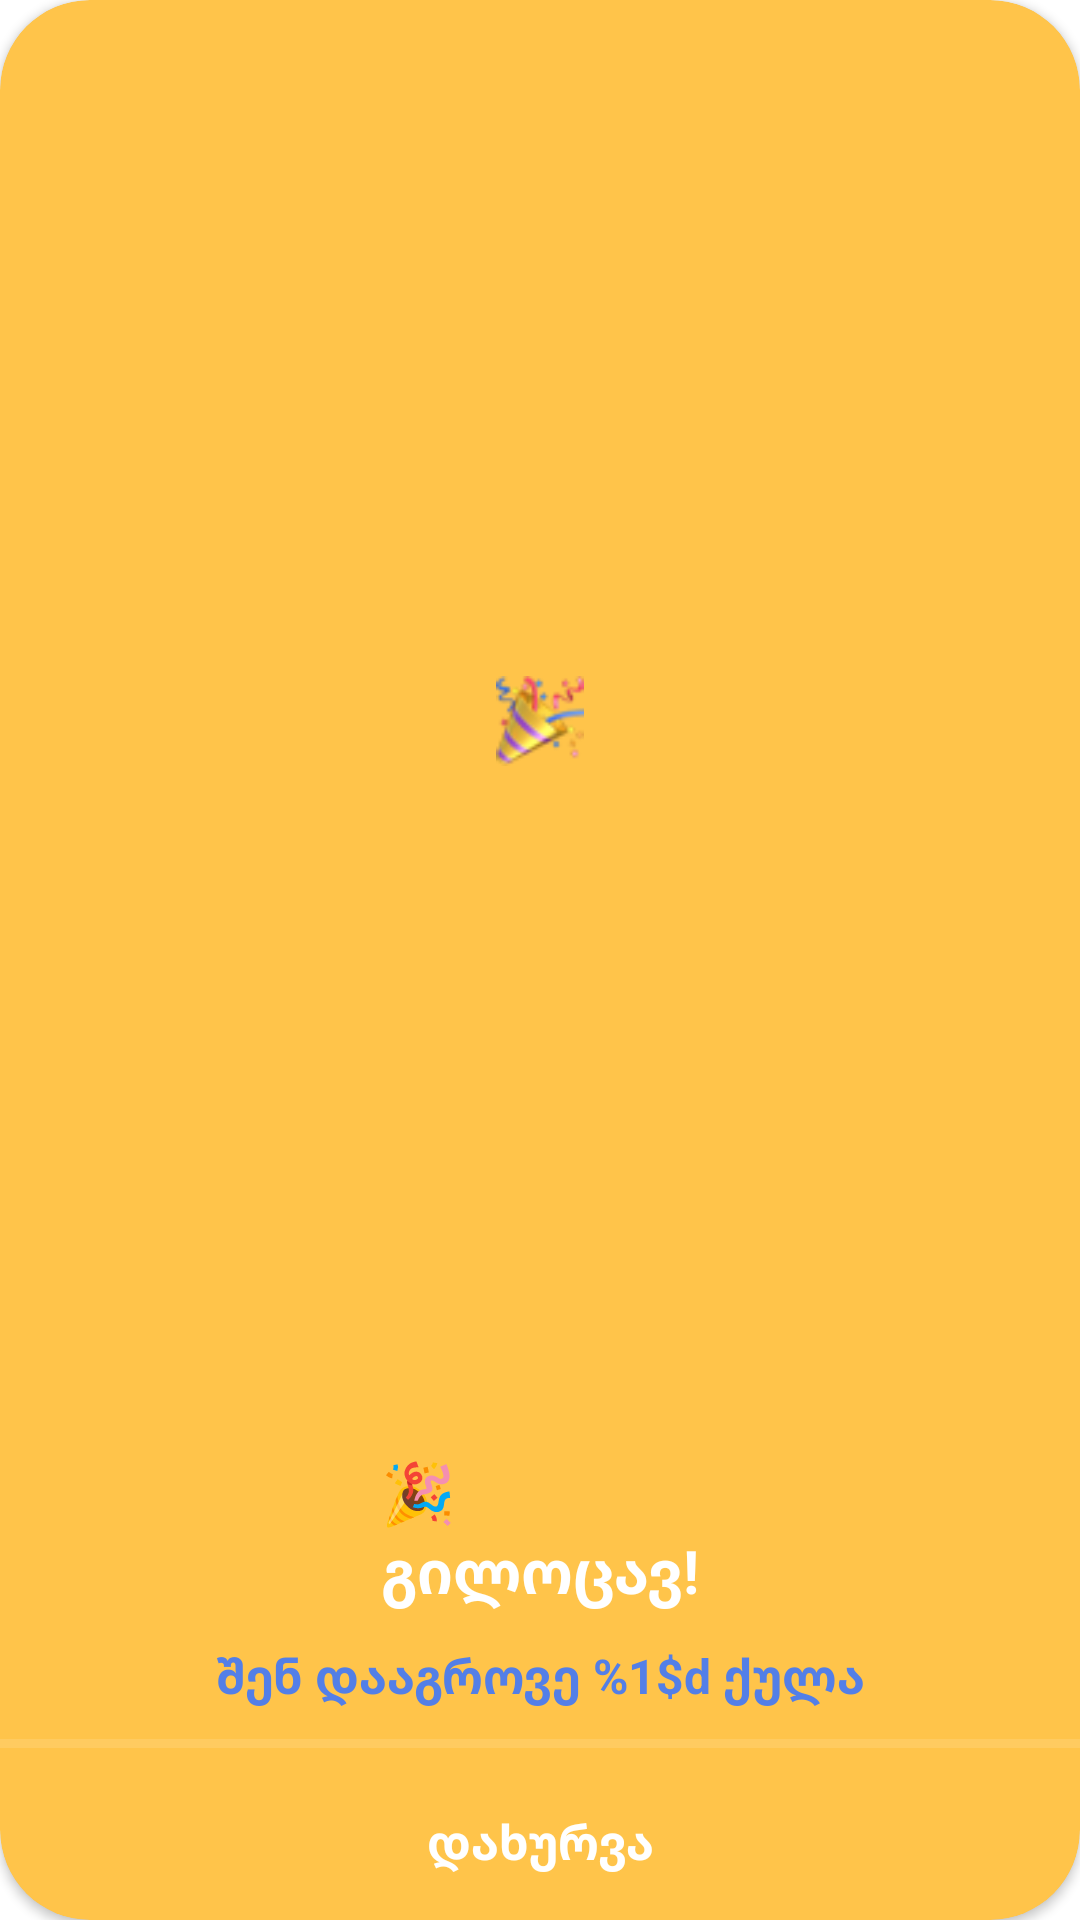

Named icons in this screenshot (1080px×1920px) and their centers, point (x, y):
congrats: point (540, 720)
